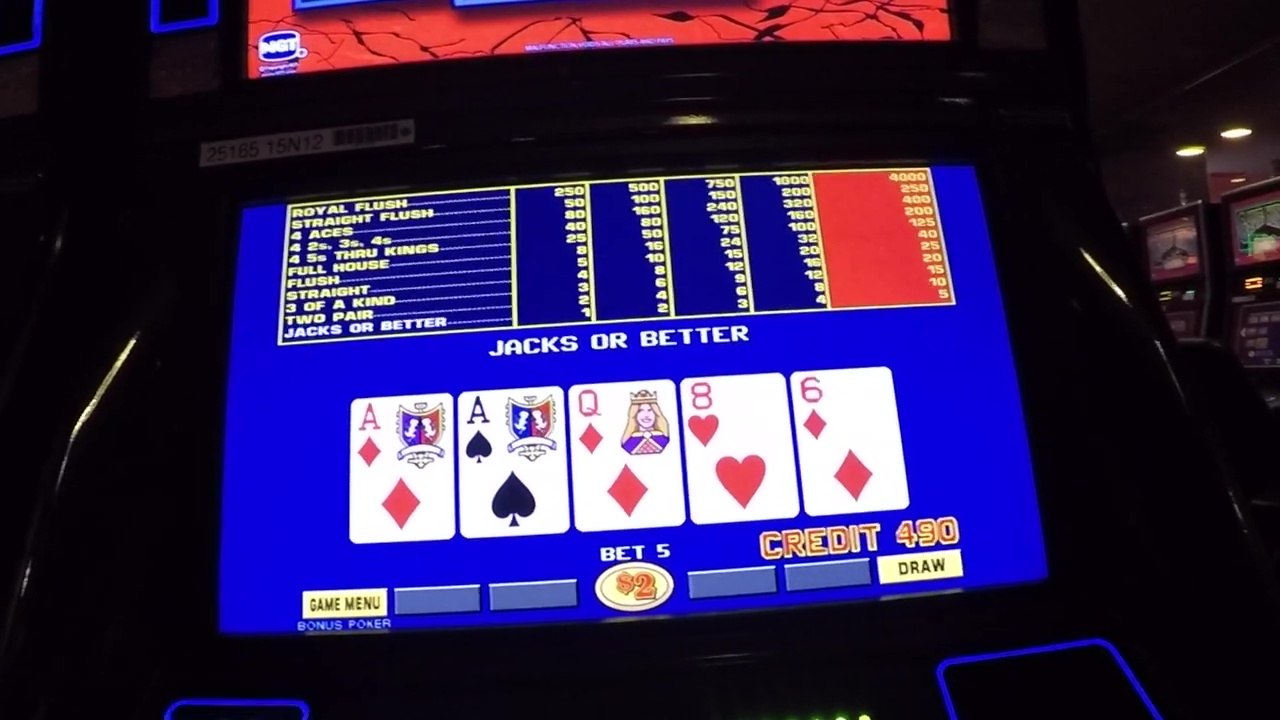D6: (797, 371, 894, 445)
DA: (352, 401, 451, 466)
DQ: (573, 387, 676, 456)
H8: (687, 378, 783, 449)
SA: (462, 394, 561, 465)
